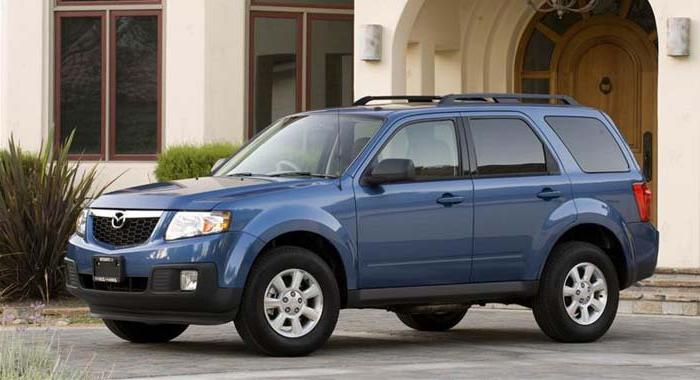Car: (37, 86, 692, 363)
